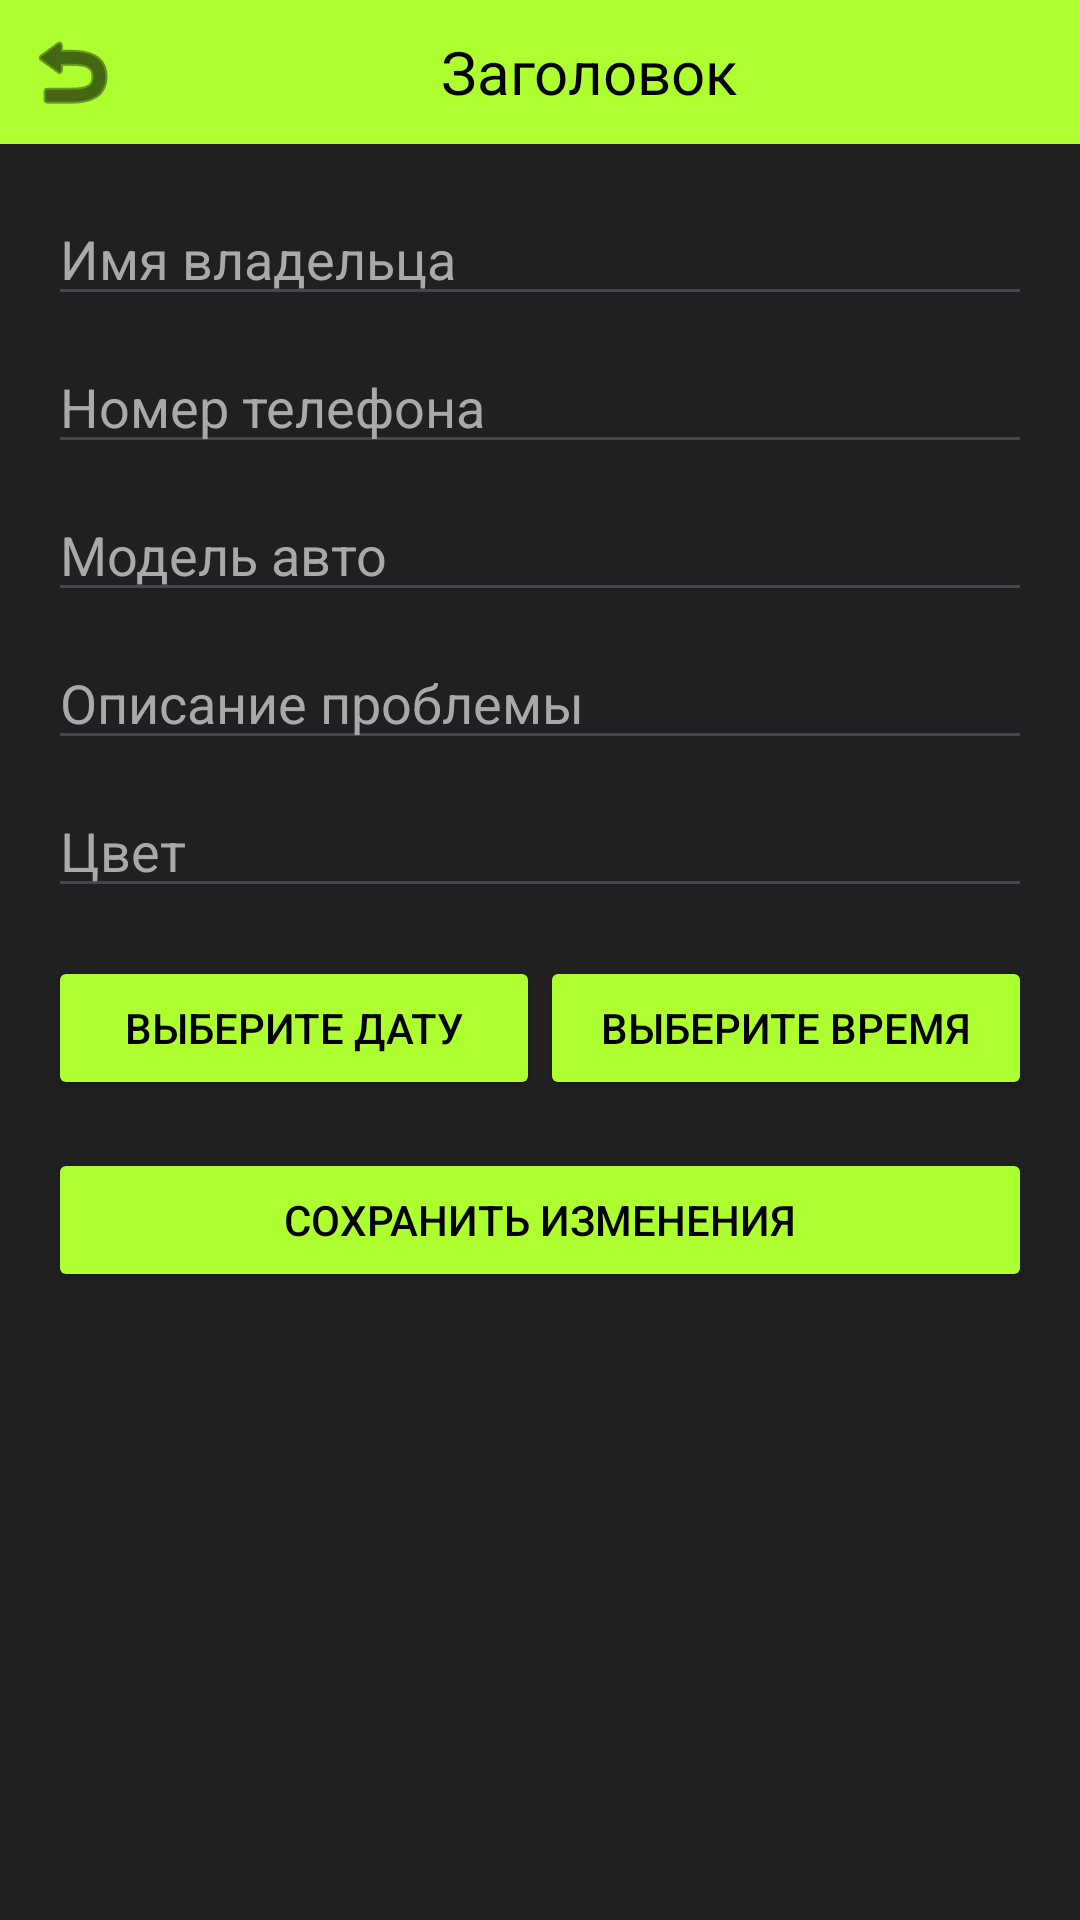

Where icons sit on this 1080w x 1920h app screen, as (x1, y1, x2, y2):
Назад: (39, 41, 108, 104)
